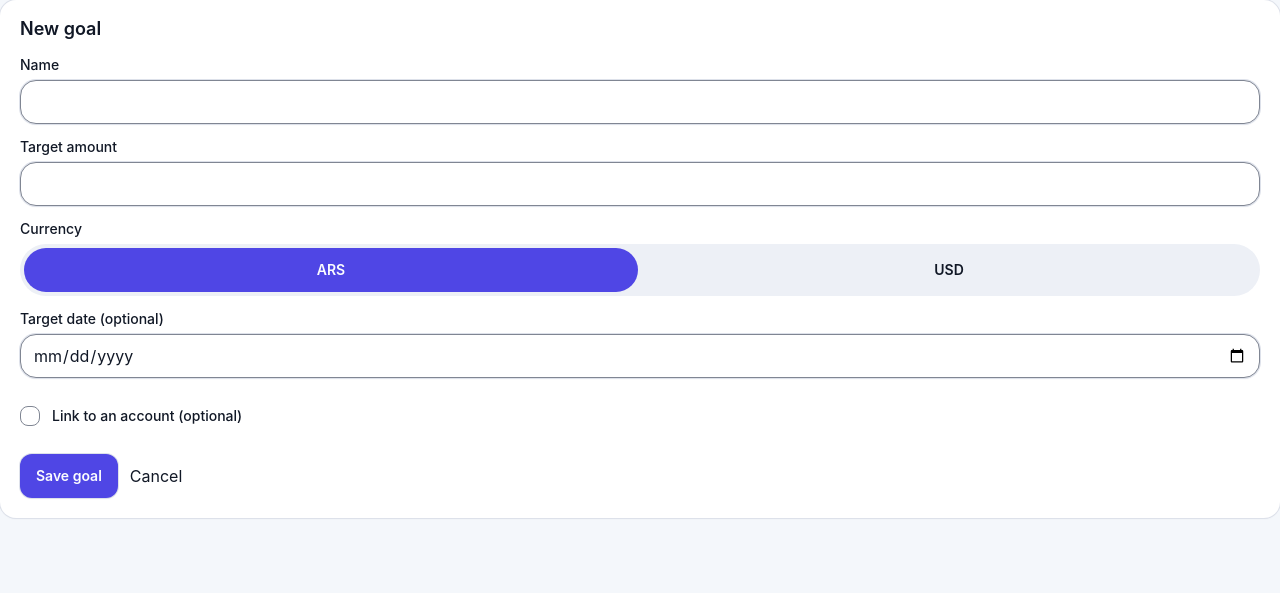
Test: CreateGoalContainer › shows a field error and sends nothing for Trip /
The image size is (1280, 593).
Type "Trip" into the field labelled "Name" at (640, 102), box [20, 80, 1260, 124]
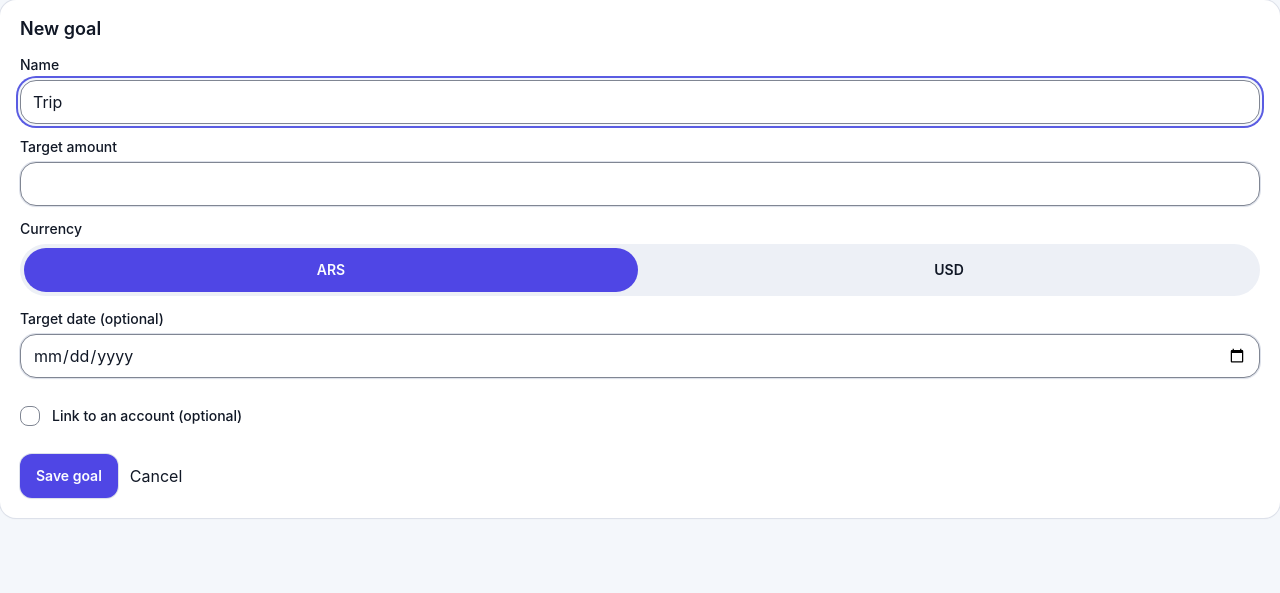
Clear the field labelled "Target amount" at (640, 184), box [20, 162, 1260, 206]
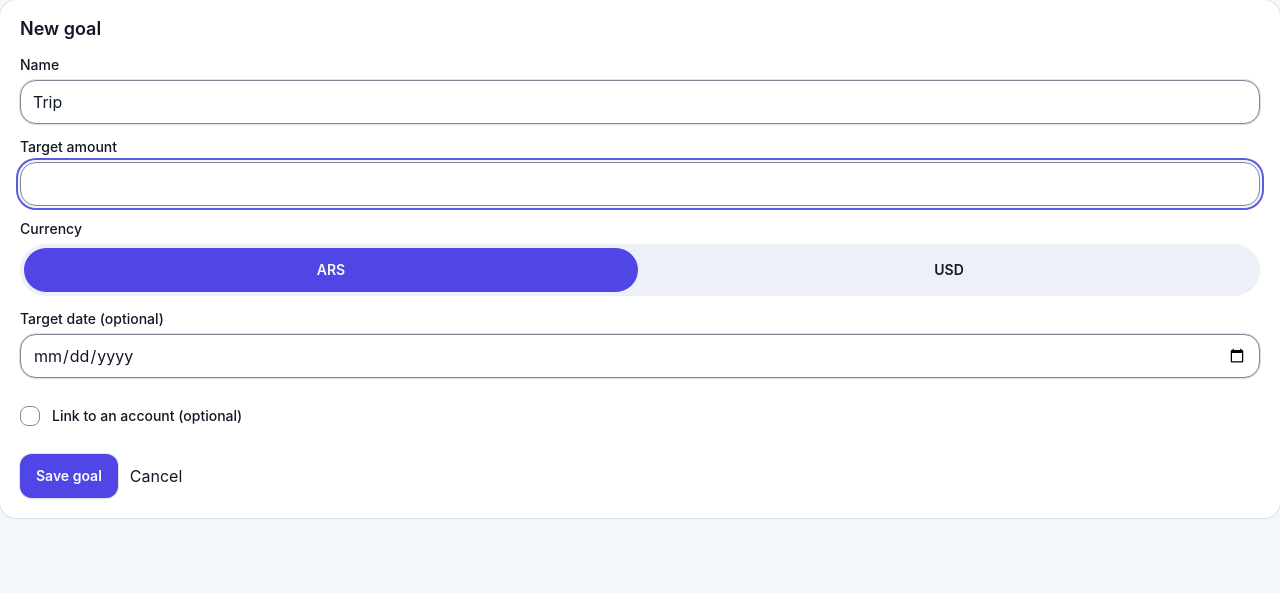
Click the button "Save goal" at (69, 476), box [20, 454, 118, 498]
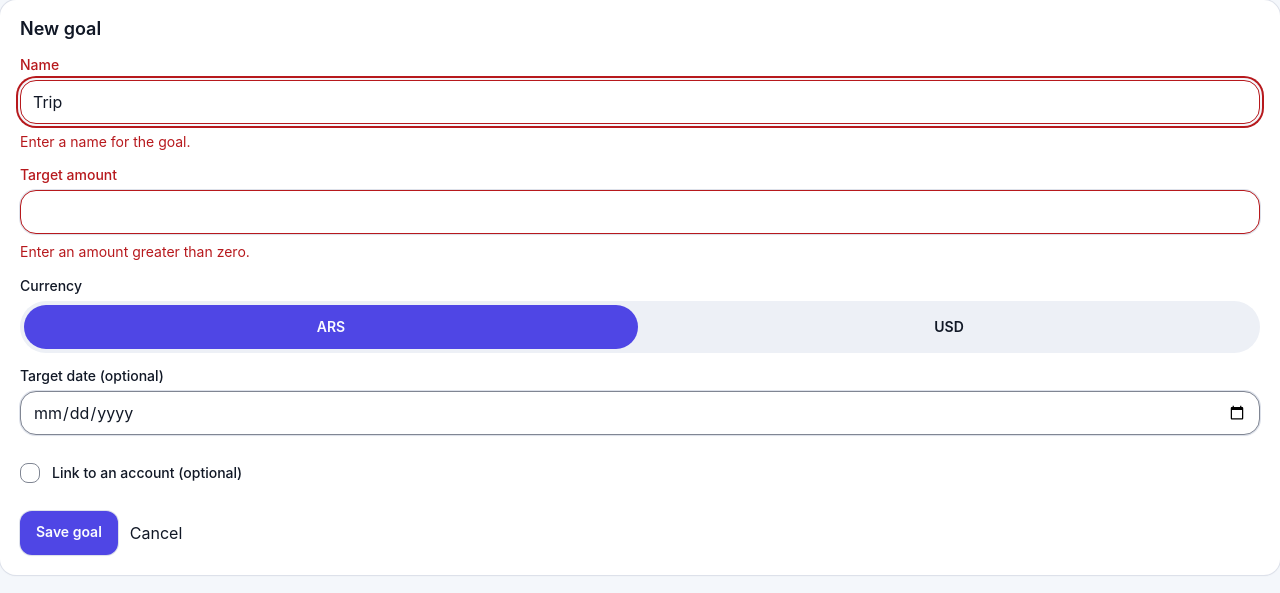
Expected: the text "Enter an amount greater than zero." is shown, [20, 243, 250, 260]
